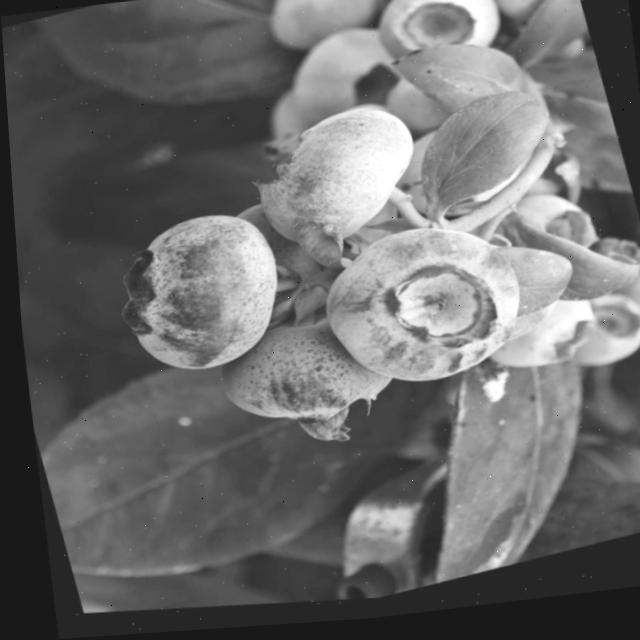RipeBlueBerry: (201, 299, 408, 464)
Semi-RipeBlueBerry: (296, 200, 552, 425), (91, 195, 312, 406)
UnripeBlueBerry: (233, 95, 443, 278)
